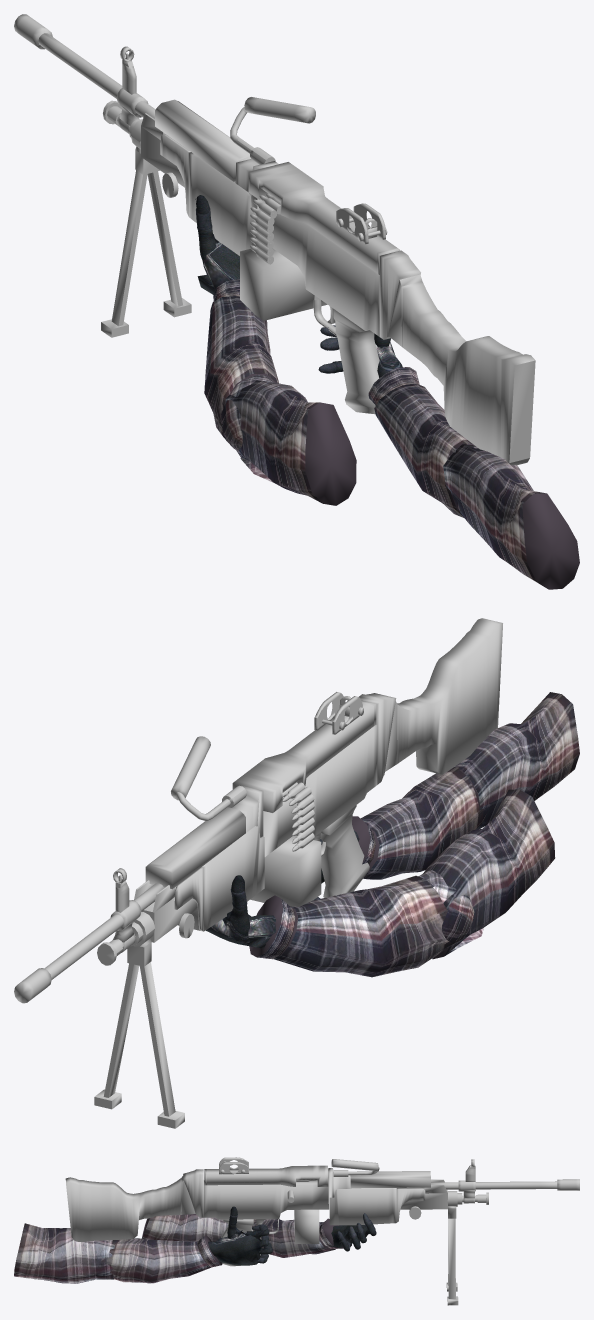
Rendered from m249_vfire.fbx.
3 renders of one model, top to bottom at view 1: azimuth 30°, elevation 25°; view 2: azimuth 150°, elevation 25°; view 3: azimuth 270°, elevation 25°, orthographic. The views are drawn at different scales.
Visible parts, largest first — view 1: larm, m249_stock, rupperarm, m249_body, rforearm, m249_top, m249_grip, m249_bipod, m249_magazine, m249_cooler, m249_pistol_grip, m249_barrel (+6 smaller); view 2: larm, m249_stock, rforearm, rupperarm, m249_body, m249_grip, m249_top, m249_bipod, m249_cooler, m249_magazine, m249_pistol_grip, m249_barrel (+7 smaller); view 3: m249_stock, m249_body, rupperarm, rforearm, larm, m249_grip, m249_top, rhand, m249_cooler, m249_barrel, m249_front, lhand (+7 smaller).
Part boxes in pixels (x1,y1,x2,y2): larm: (204, 279, 356, 505); m249_stock: (388, 274, 535, 465); rupperarm: (443, 444, 579, 589); m249_body: (235, 159, 420, 339); rforearm: (368, 367, 473, 517); m249_top: (248, 162, 399, 274); m249_grip: (160, 134, 256, 255); m249_bipod: (101, 146, 191, 337); m249_magazine: (240, 248, 327, 320); m249_cooler: (155, 99, 250, 181); m249_pistol_grip: (333, 309, 379, 414); m249_barrel: (14, 14, 155, 118); larm: (249, 789, 555, 977); m249_stock: (385, 618, 502, 774); rforearm: (352, 767, 483, 879); rupperarm: (455, 692, 579, 829); m249_body: (232, 693, 396, 856); m249_grip: (174, 826, 264, 931); m249_top: (232, 700, 376, 812); m249_bipod: (94, 938, 184, 1128); m249_cooler: (145, 807, 245, 889); m249_magazine: (250, 835, 321, 906); m249_pistol_grip: (320, 805, 369, 897); m249_barrel: (14, 883, 164, 1003); m249_stock: (65, 1175, 195, 1241); m249_body: (183, 1168, 351, 1219); rupperarm: (14, 1223, 114, 1283); rforearm: (106, 1235, 222, 1283); larm: (142, 1214, 343, 1257); m249_grip: (329, 1187, 425, 1225); m249_top: (204, 1165, 328, 1186); rhand: (208, 1231, 261, 1265); m249_cooler: (350, 1171, 430, 1188); m249_barrel: (431, 1179, 579, 1190); m249_front: (397, 1179, 447, 1219); lhand: (327, 1213, 376, 1251).
Bounding box in the file's own units: 11.13 × 16 × 54.35.
